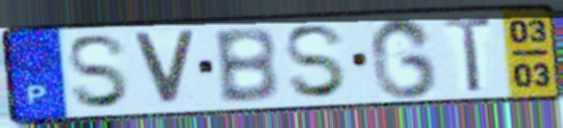B: (209, 24, 282, 106)
G: (367, 15, 441, 101)
S: (281, 22, 351, 102), (64, 32, 134, 112)
T: (441, 14, 496, 96)
V: (128, 29, 200, 109)
